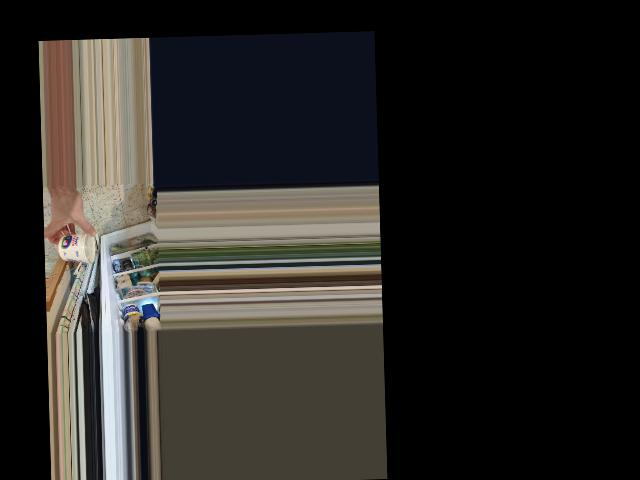cotage: (56, 232, 89, 257)
